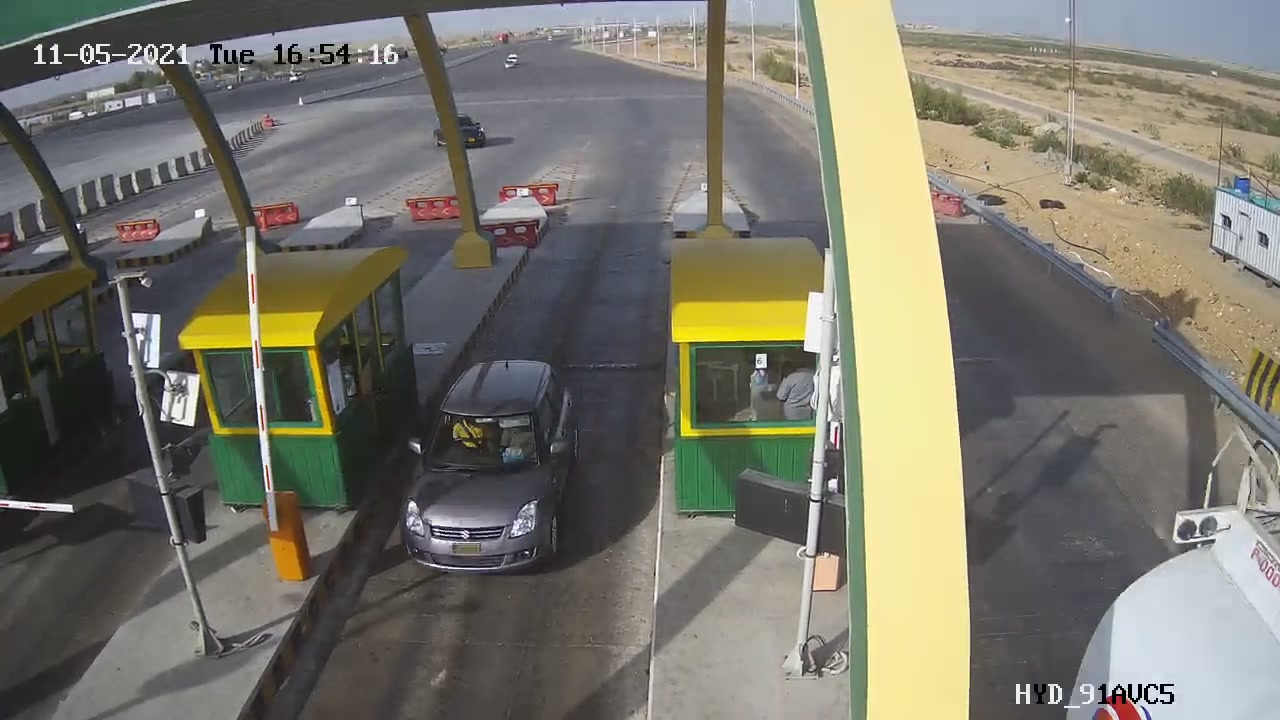F1: (384, 338, 601, 593)
